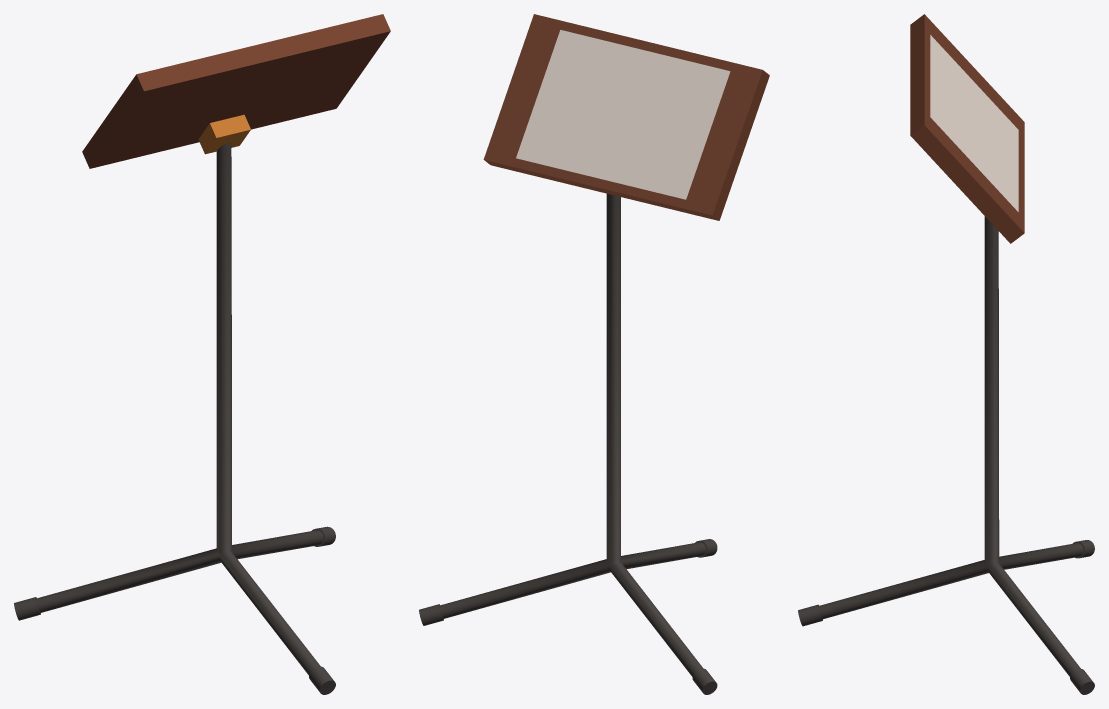
Rendered from Porta Partitura.FBX.
The picture shows the model from 3 angles, left to right: view 1: azimuth 30°, elevation 25°; view 2: azimuth 150°, elevation 25°; view 3: azimuth 270°, elevation 25°; orthographic projection. The views are drawn at different scales.
Visible parts, largest first — view 1: Porta Partitura Low; view 2: Porta Partitura Low; view 3: Porta Partitura Low.
Boxes of the visible parts, x1,y1,x2,y2 form: Porta Partitura Low: (14,14,390,694); Porta Partitura Low: (419,14,769,694); Porta Partitura Low: (798,14,1094,694).
Bounding box in the file's own units: 11.64 × 20.95 × 10.14.
Materials: 1 (1 with a texture image).
